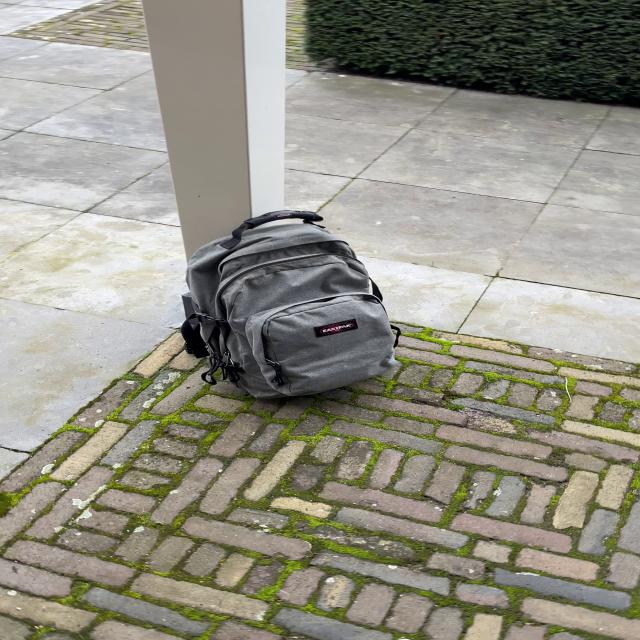backpack: (170, 204, 406, 407)
